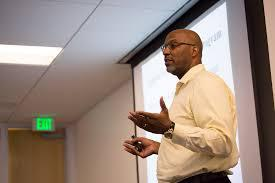Person: (128, 23, 238, 176)
